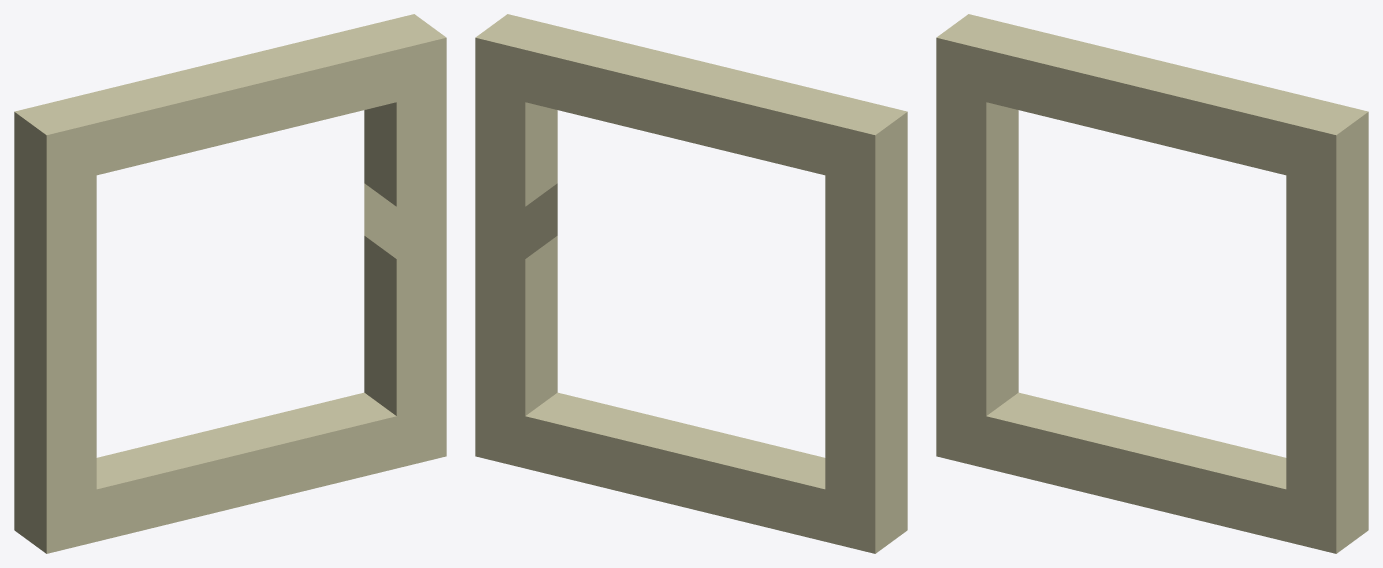
File: level_1.fbx
The picture shows the model from 3 angles, left to right: view 1: azimuth 30°, elevation 25°; view 2: azimuth 150°, elevation 25°; view 3: azimuth 330°, elevation 25°; orthographic projection.
Parts seen in each view (by area): view 1: Level_1; view 2: Level_1; view 3: Level_1.
Part boxes in pixels (<box>): Level_1: <box>14,14,446,553</box>; Level_1: <box>475,14,907,553</box>; Level_1: <box>936,14,1368,553</box>.
Bounding box in the file's own units: 2 × 2 × 0.28.
